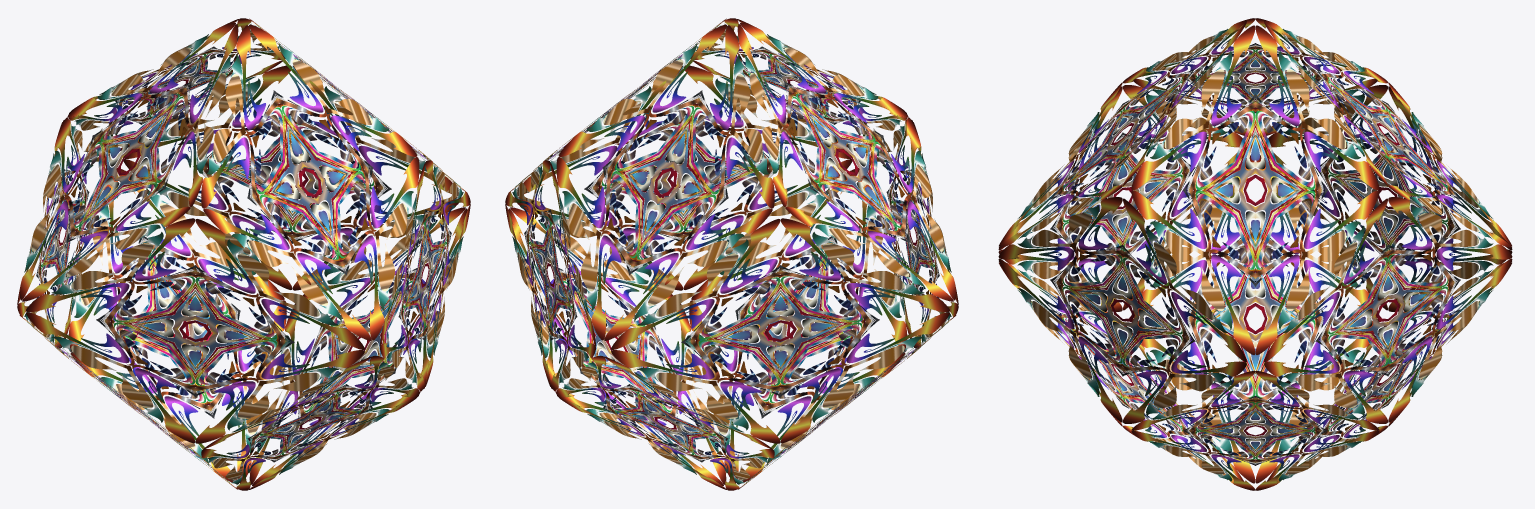
Rendered from RhombicDodecahedron9.obj.
3 renders of one model, left to right at view 1: azimuth 30°, elevation 25°; view 2: azimuth 150°, elevation 25°; view 3: azimuth 270°, elevation 25°, orthographic.
Bounding box in the file's own units: 2.12 × 2.12 × 2.12.
Materials: 1 (1 with a texture image).
